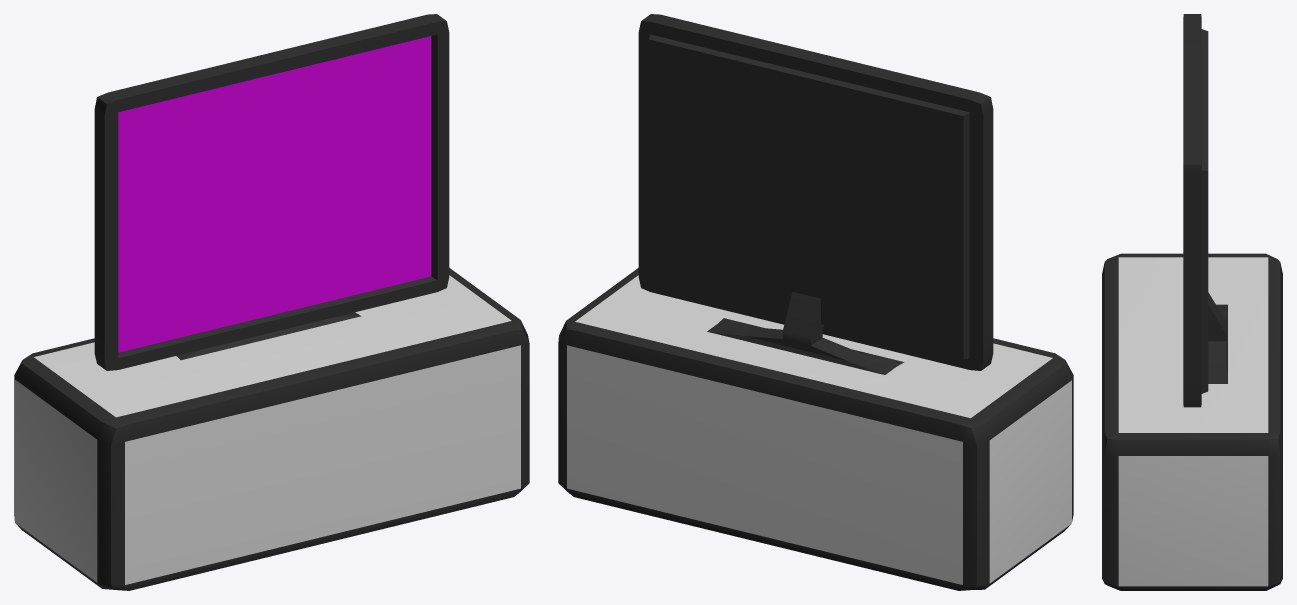
3 views of the same model, side by side, from view 1: azimuth 30°, elevation 25°; view 2: azimuth 150°, elevation 25°; view 3: azimuth 270°, elevation 25° (orthographic). The views are drawn at different scales.
Visible parts, largest first — view 1: pCube3; view 2: pCube3; view 3: pCube3.
Boxes of the visible parts, x1=… form: pCube3: x1=14, y1=14, x2=529, y2=590; pCube3: x1=558, y1=14, x2=1073, y2=590; pCube3: x1=1102, y1=14, x2=1282, y2=590.
Bounding box in the file's own units: 2.5 × 2.52 × 1.
